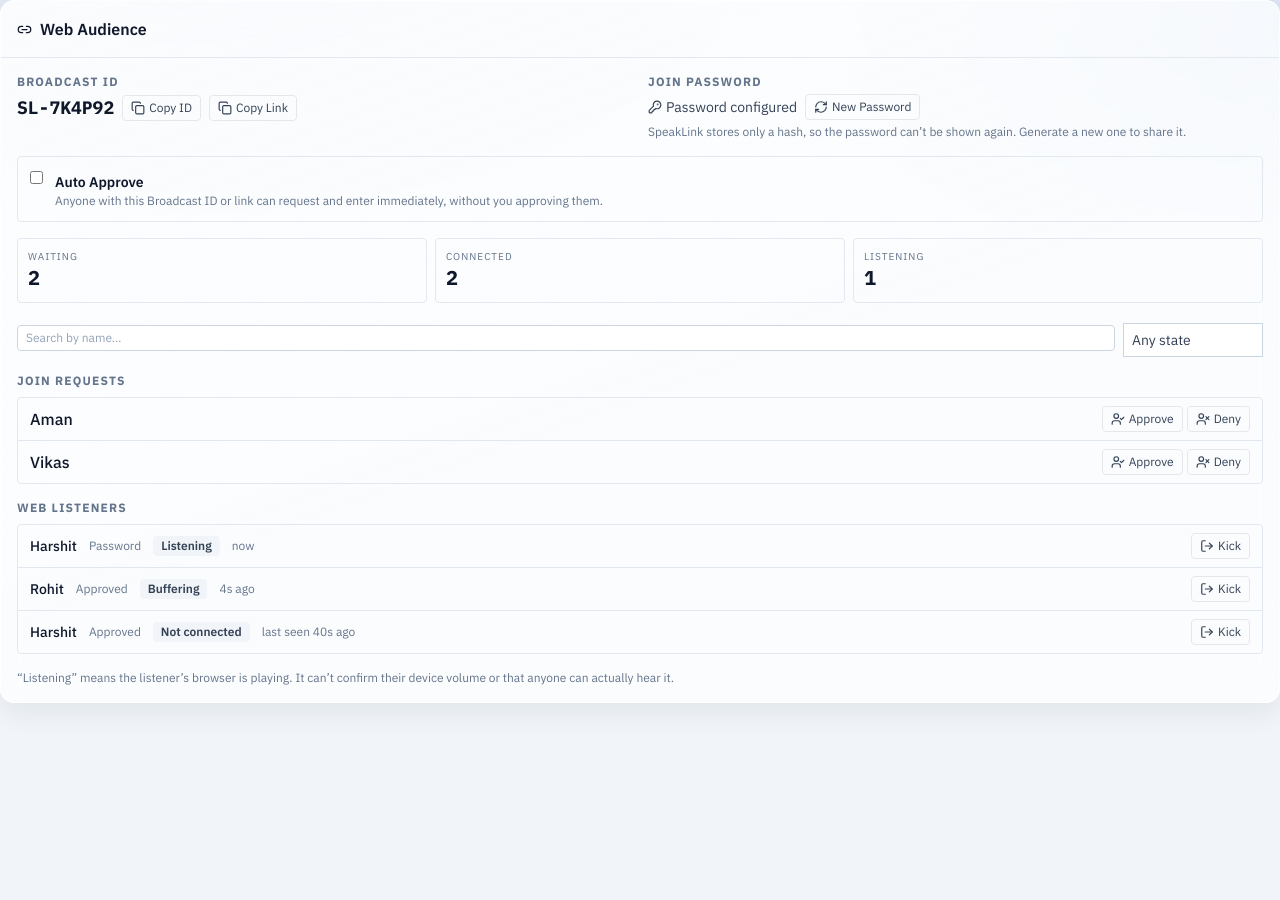
Test: rotating asks the server and shows the new password
The image size is (1280, 900).
Click the button with test id "web-rotate-password" at (863, 107), box [805, 94, 920, 120]
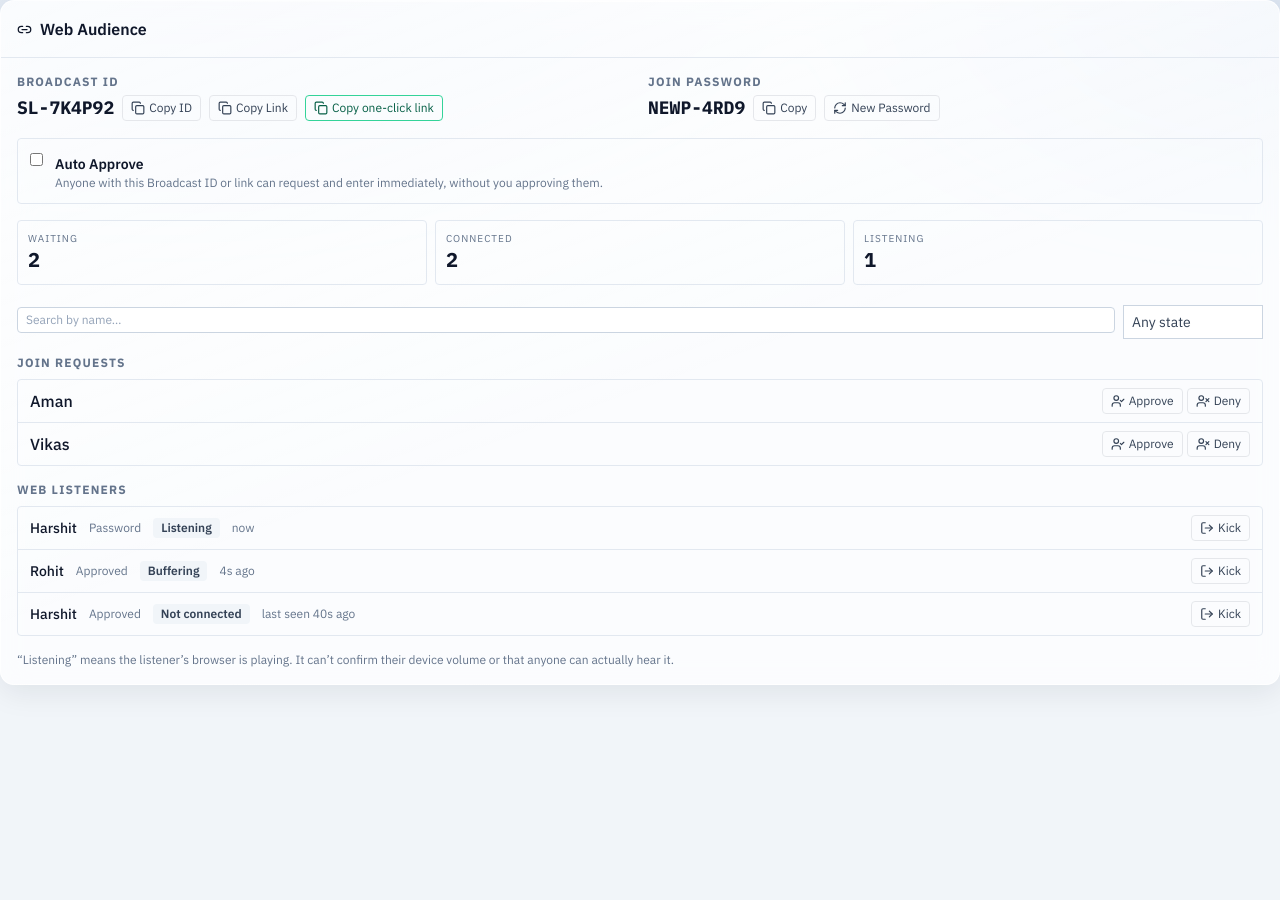
Check: the text with test id "web-room-password" reads "NEWP-4RD9", box [648, 96, 745, 119]
